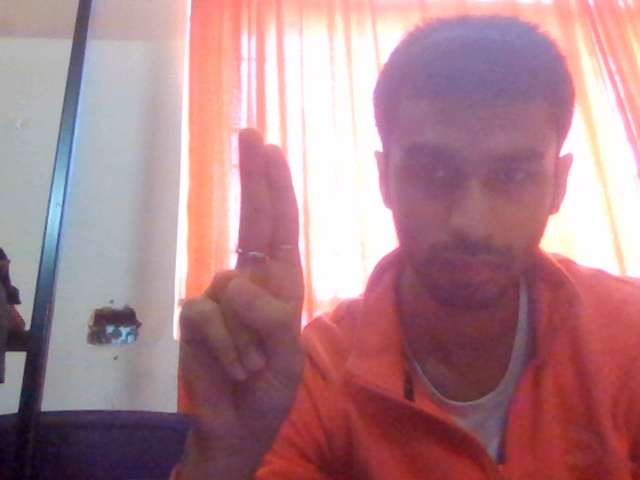U: (158, 104, 368, 467)
